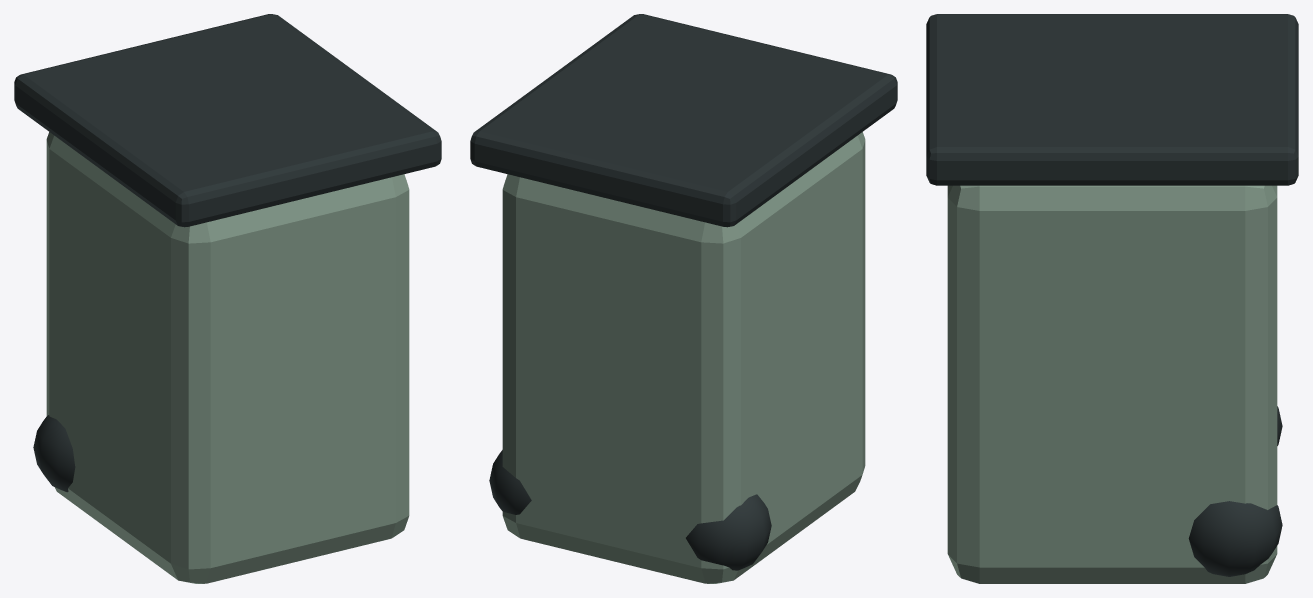
Rendered from bin.glb.
3 views of the same model, side by side, from view 1: azimuth 30°, elevation 25°; view 2: azimuth 150°, elevation 25°; view 3: azimuth 270°, elevation 25° (orthographic). The views are drawn at different scales.
Visible parts, largest first — view 1: sage, rubber; view 2: sage, rubber; view 3: sage, rubber.
Boxes of the visible parts, box(x1,y1,x2,y2) form: sage: box(46, 132, 409, 583); rubber: box(14, 14, 441, 492); sage: box(502, 132, 865, 583); rubber: box(470, 14, 897, 570); sage: box(947, 185, 1277, 583); rubber: box(926, 14, 1298, 576).
Size of the model in its own units: 0.64 by 0.94 by 0.7.
